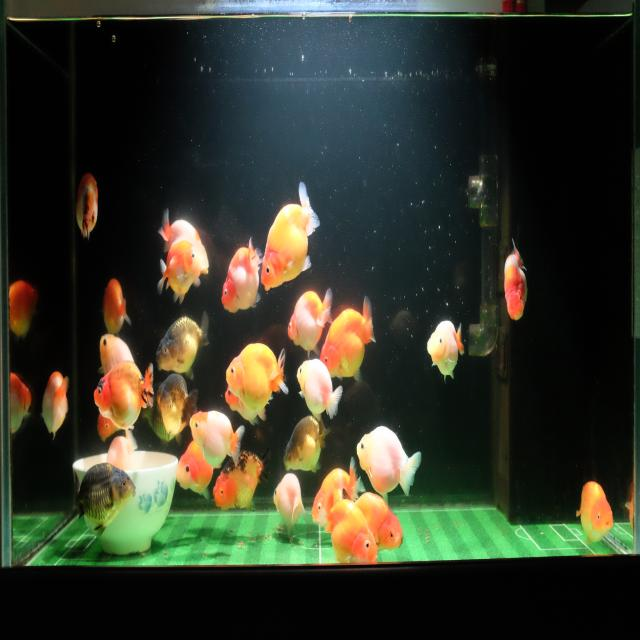Tilapia: (260, 177, 322, 295), (357, 424, 422, 506), (224, 342, 288, 422), (66, 460, 136, 532), (320, 293, 376, 382), (93, 358, 154, 434), (319, 492, 379, 565), (210, 447, 271, 515), (309, 455, 365, 529), (157, 203, 210, 281), (154, 308, 212, 377), (219, 234, 265, 317), (188, 406, 246, 471), (155, 238, 205, 308), (285, 286, 333, 355), (354, 492, 405, 556), (282, 412, 332, 474), (296, 356, 342, 422), (154, 372, 198, 440), (37, 364, 72, 447), (575, 478, 615, 548), (174, 436, 214, 503), (271, 471, 308, 542), (427, 318, 465, 384), (504, 236, 529, 327), (100, 275, 132, 338), (74, 168, 100, 244), (224, 383, 264, 430), (10, 276, 39, 340), (98, 332, 137, 378), (9, 366, 33, 434), (94, 410, 119, 446)
